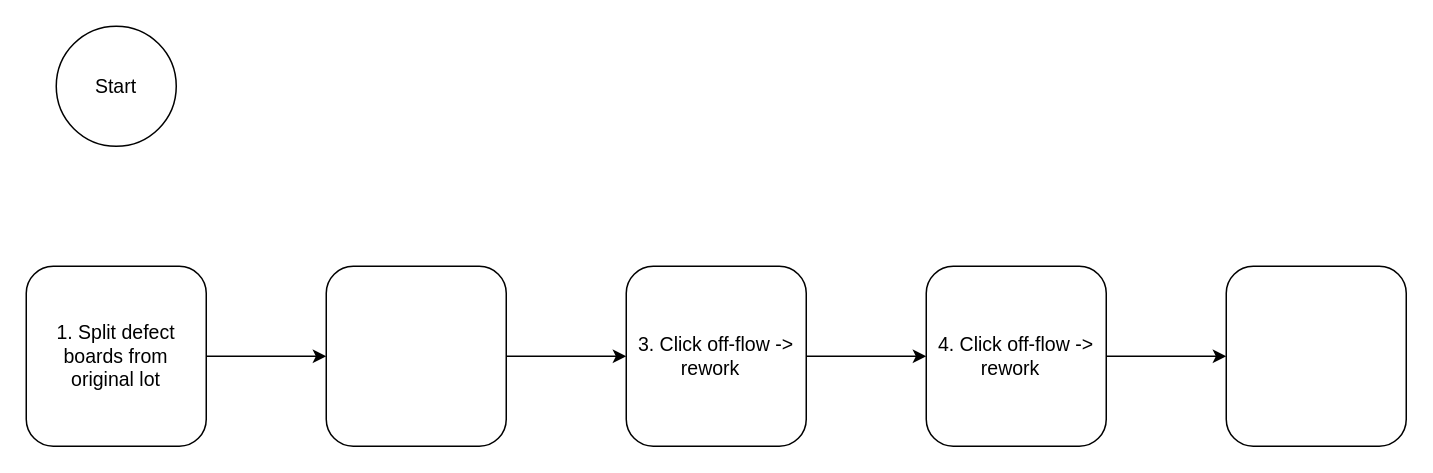
Image size: 1433x473. Some labels were removed from this diagram. Each missing label, with the centre of its shape:
"2. Abort defect lot from current machine" goes at [415,355].
"5. Choose reason and rework flow" goes at [1315,355].
